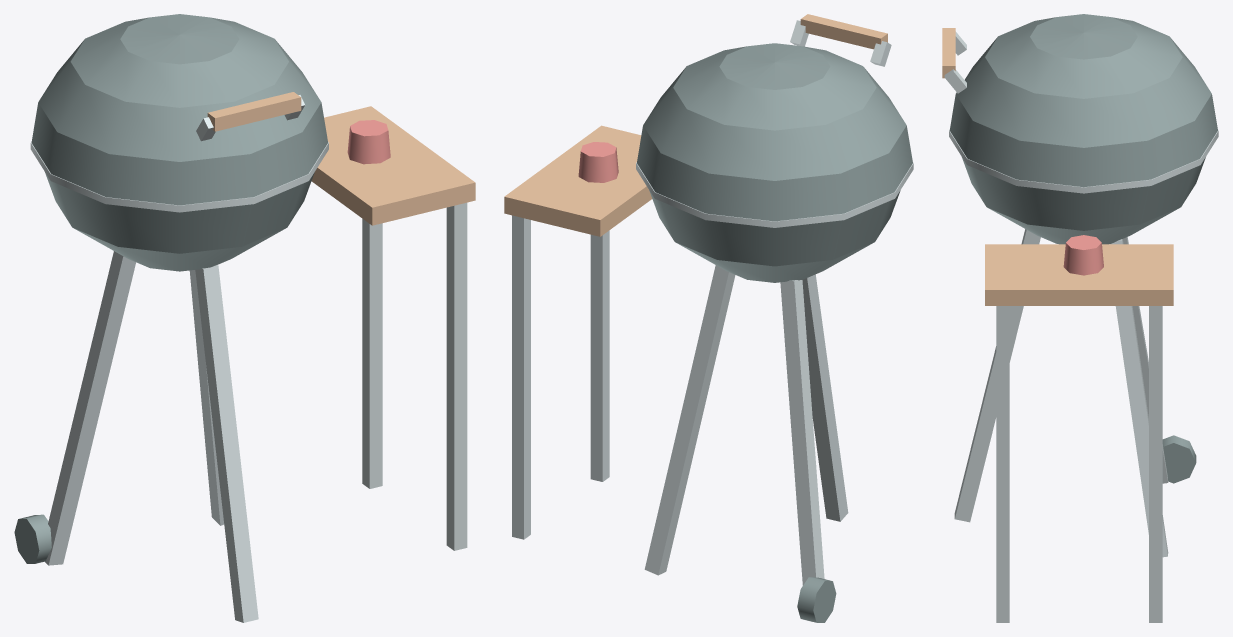
The model's file is grill.glb.
3 views of the same model, side by side, from view 1: azimuth 30°, elevation 25°; view 2: azimuth 150°, elevation 25°; view 3: azimuth 270°, elevation 25° (orthographic). The views are drawn at different scales.
Visible parts, largest first — view 1: grill; view 2: grill; view 3: grill.
Boxes of the visible parts, <box> form: grill: <box>14,14,475,622</box>; grill: <box>504,14,913,622</box>; grill: <box>942,14,1218,622</box>.
Bounding box in the file's own units: 0.43 × 0.6 × 0.3075.
